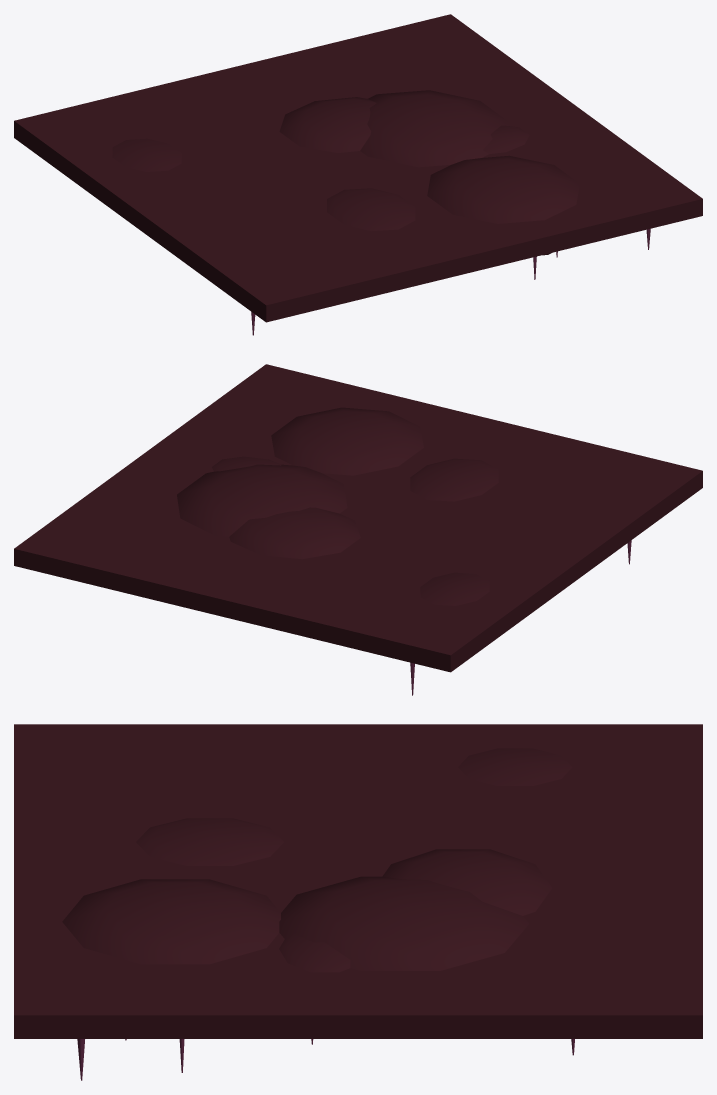
Rendered from SM_Ceiling_Flesh.fbx.
3 renders of one model, top to bottom at view 1: azimuth 30°, elevation 25°; view 2: azimuth 150°, elevation 25°; view 3: azimuth 270°, elevation 25°, orthographic. The views are drawn at different scales.
Parts seen in each view (by area): view 1: SM_Ceiling_Flesh; view 2: SM_Ceiling_Flesh; view 3: SM_Ceiling_Flesh.
Boxes of the visible parts, <box> form: SM_Ceiling_Flesh: <box>14,14,702,335</box>; SM_Ceiling_Flesh: <box>14,364,702,695</box>; SM_Ceiling_Flesh: <box>14,724,702,1080</box>.
Size of what is drawn, in the model's own units: 4 by 0.8694 by 4.
